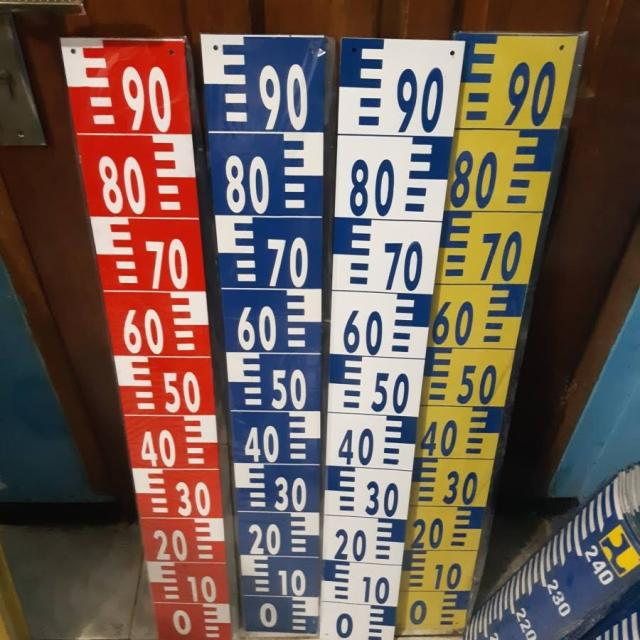staff: (58, 44, 210, 640), (325, 24, 472, 640)
